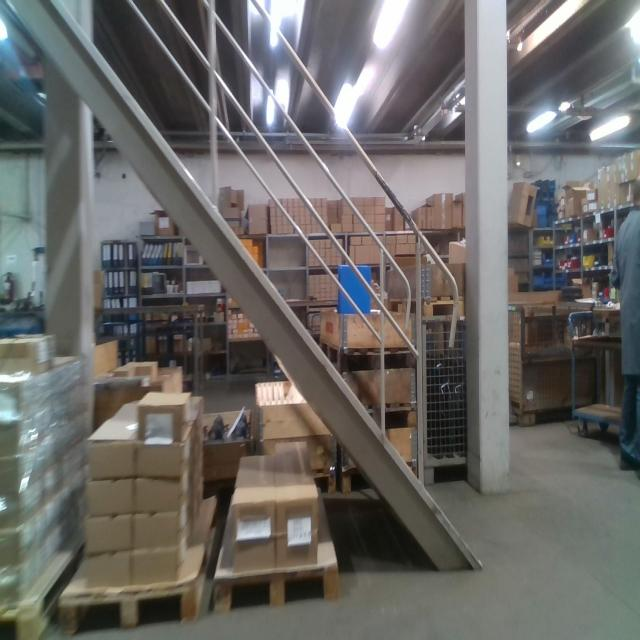pallet: (57, 492, 221, 636), (211, 482, 344, 615), (0, 519, 90, 638), (383, 293, 472, 322), (291, 466, 336, 492)
stillage: (506, 289, 603, 429), (420, 304, 472, 489)
